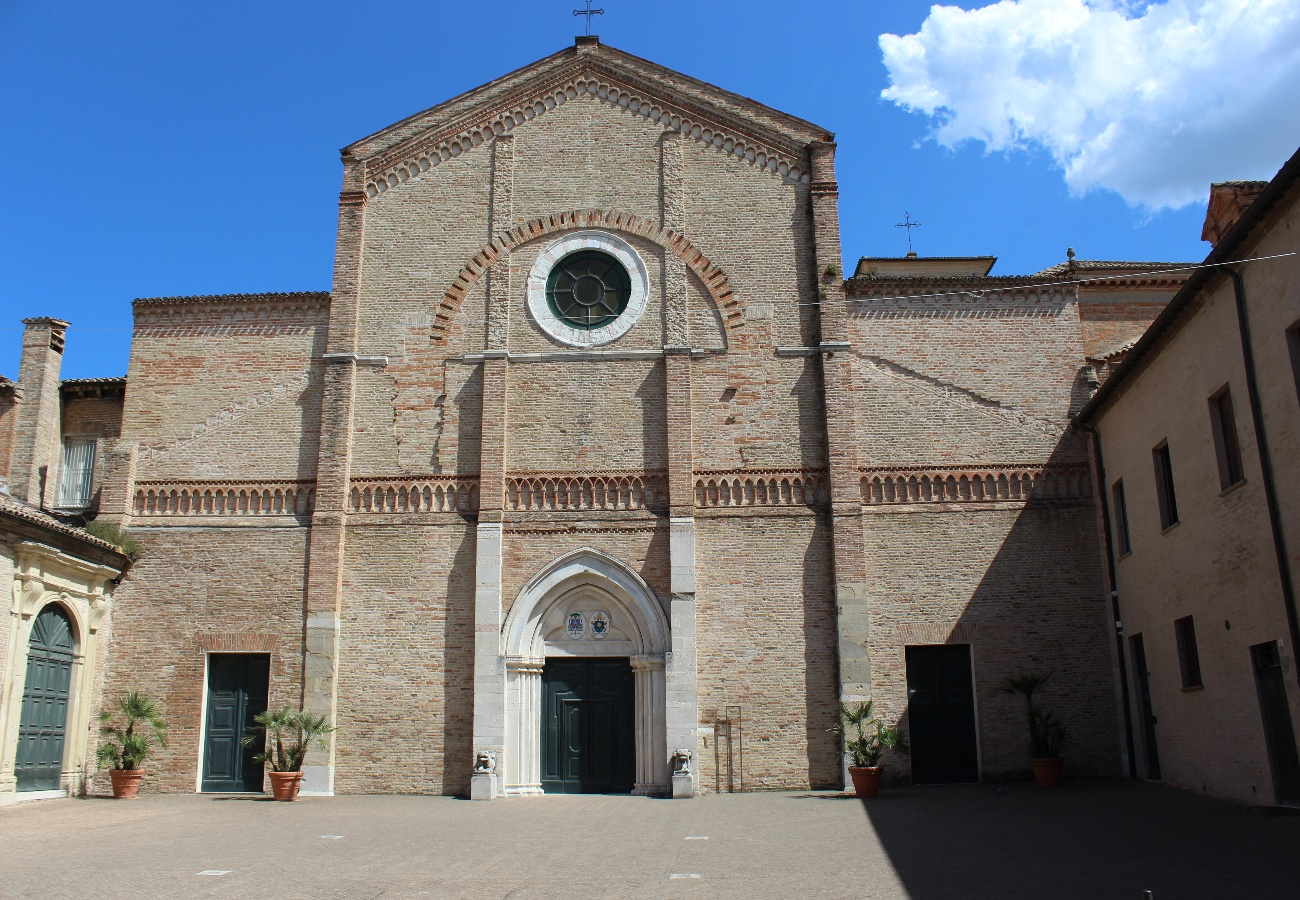Cattedrale Santa Maria Assunta: (113, 41, 1084, 806)
